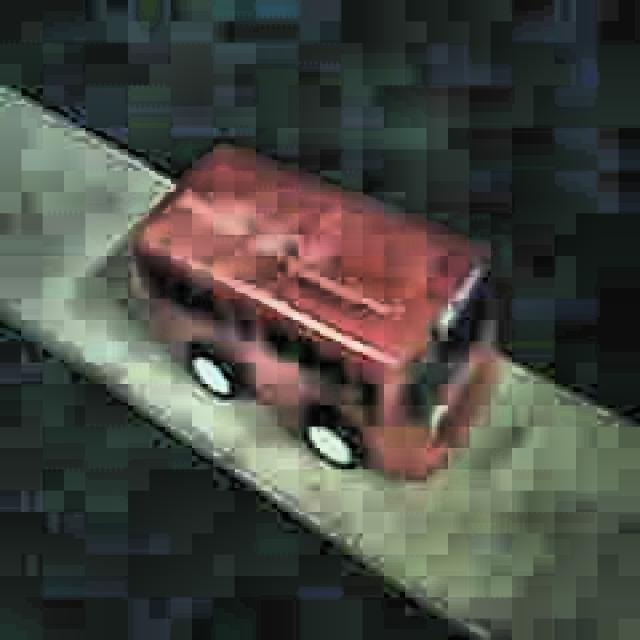bus: (128, 144, 500, 487)
